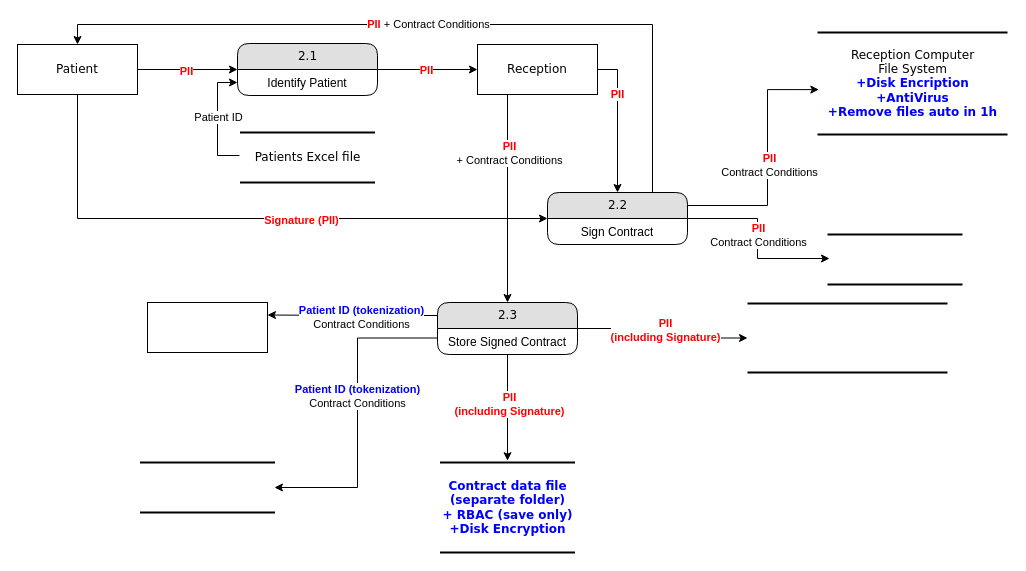
This 1026x571 diagram has some shape labels left out. Each missing label, with the centre of its shape:
1C: the point at 207,487
Bookkeeper: the point at 207,327
Documents cabinet +RFID Card usage journaling +CCTV: the point at 847,337
Reception Desk: the point at 894,259
